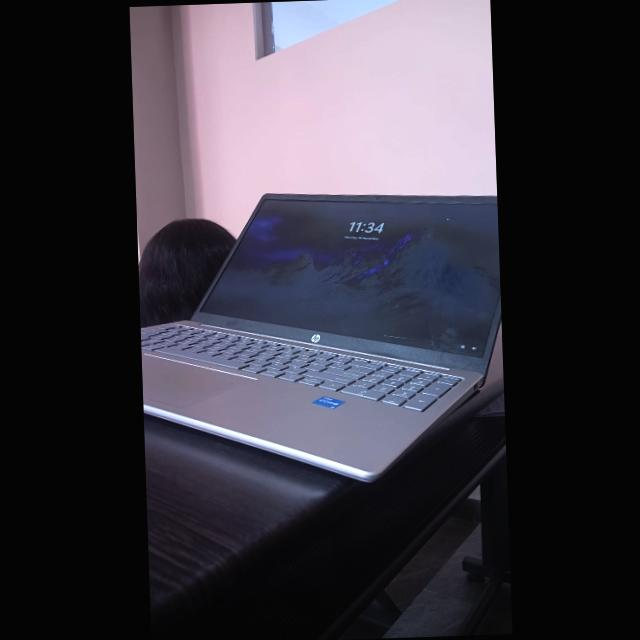laptop: (134, 172, 506, 496)
